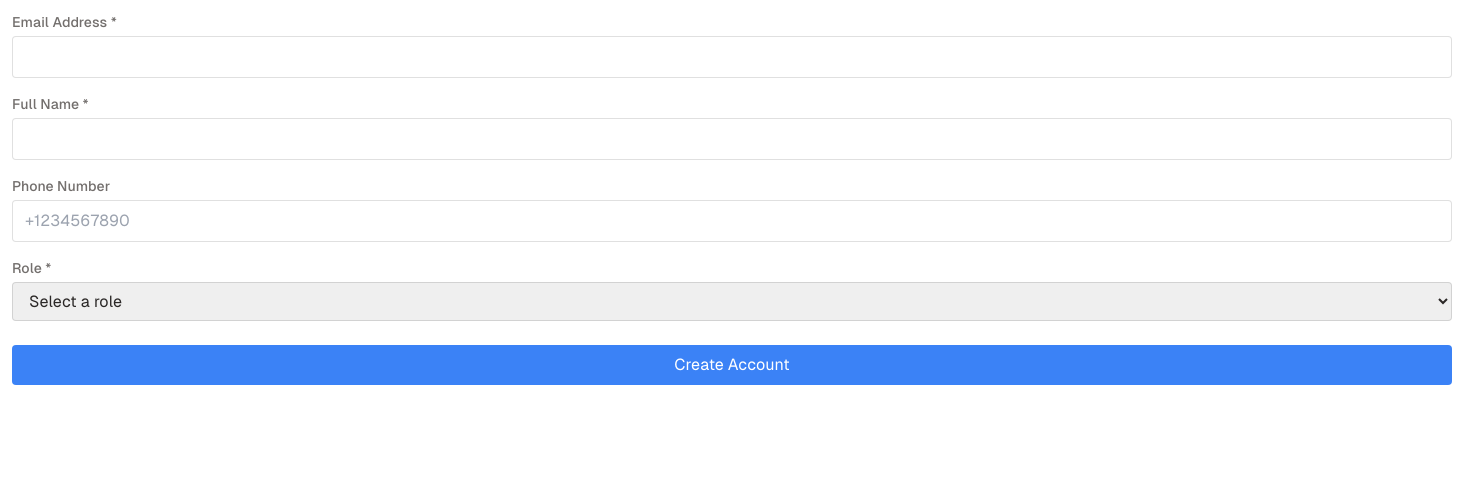
CreateAccountForm › Form Rendering › renders all required form fields
Expected: the field labelled "Email Address *" is shown, [12,36,1452,78]
Expected: the field labelled "Full Name *" is shown, [12,118,1452,160]
Select "User" in the dropdown labelled "Role *": (732, 302) [12,282,1452,321]
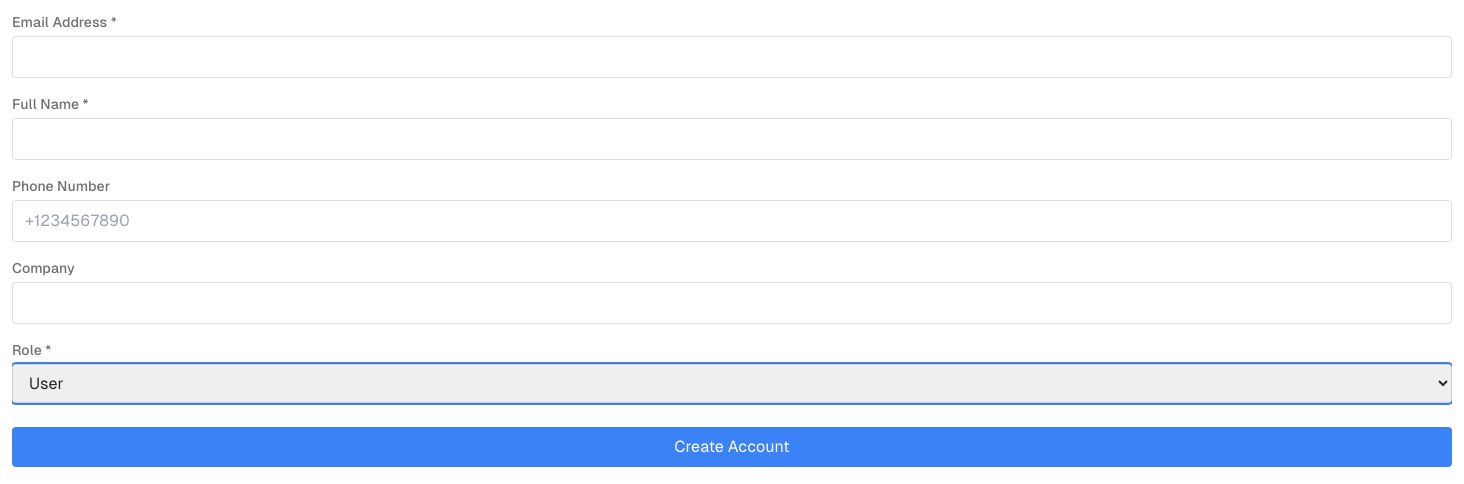
Expected: the button "Create Account" is shown, [12,427,1452,467]
Result: the field labelled "Company" is shown at [12,282,1452,324]
